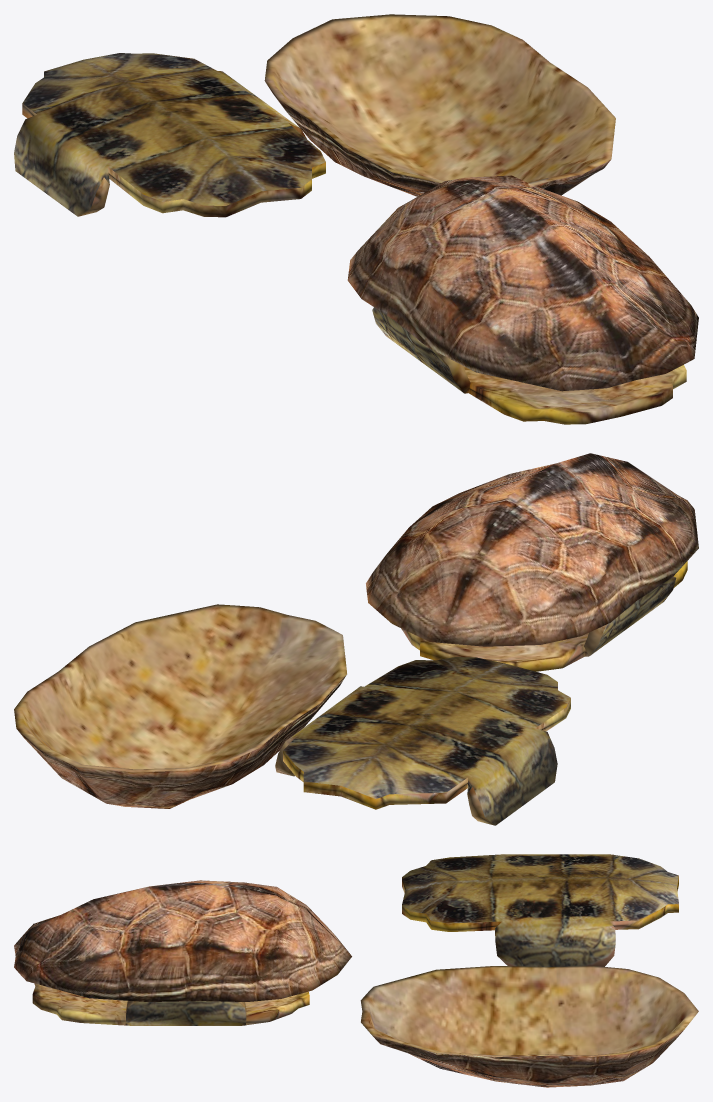
File: guijia.FBX
3 renders of one model, top to bottom at view 1: azimuth 30°, elevation 25°; view 2: azimuth 150°, elevation 25°; view 3: azimuth 270°, elevation 25°, orthographic. The views are drawn at different scales.
Parts seen in each view (by area): view 1: Line004, Line001, Line002; view 2: Line004, Line001, Line002; view 3: Line004, Line001, Line002.
Part boxes in pixels (left/top/right/bottom): Line004: left=347, top=175, right=698, bottom=424; Line001: left=264, top=14, right=615, bottom=196; Line002: left=14, top=53, right=325, bottom=217; Line004: left=366, top=453, right=698, bottom=671; Line001: left=14, top=604, right=346, bottom=808; Line002: left=275, top=657, right=570, bottom=825; Line004: left=14, top=880, right=351, bottom=1025; Line001: left=360, top=966, right=698, bottom=1087; Line002: left=402, top=854, right=678, bottom=966.
Bounding box in the file's own units: 46.56 × 16.75 × 72.21.
1 material, 1 textured.
